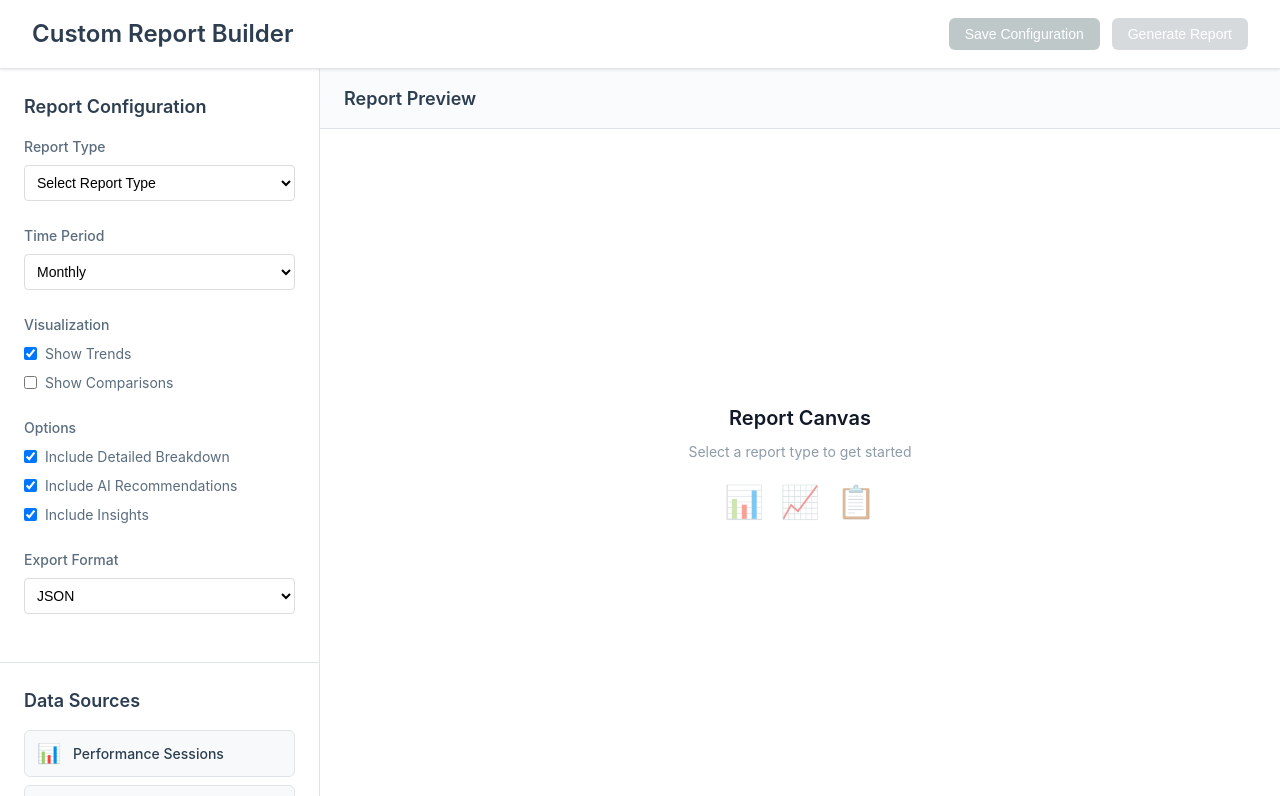
ReportBuilder › displays preview data when available
Note: Select report type to trigger preview
Select "Student Progress" in the dropdown showing "Select Report Type": (160, 183) [24, 165, 295, 201]
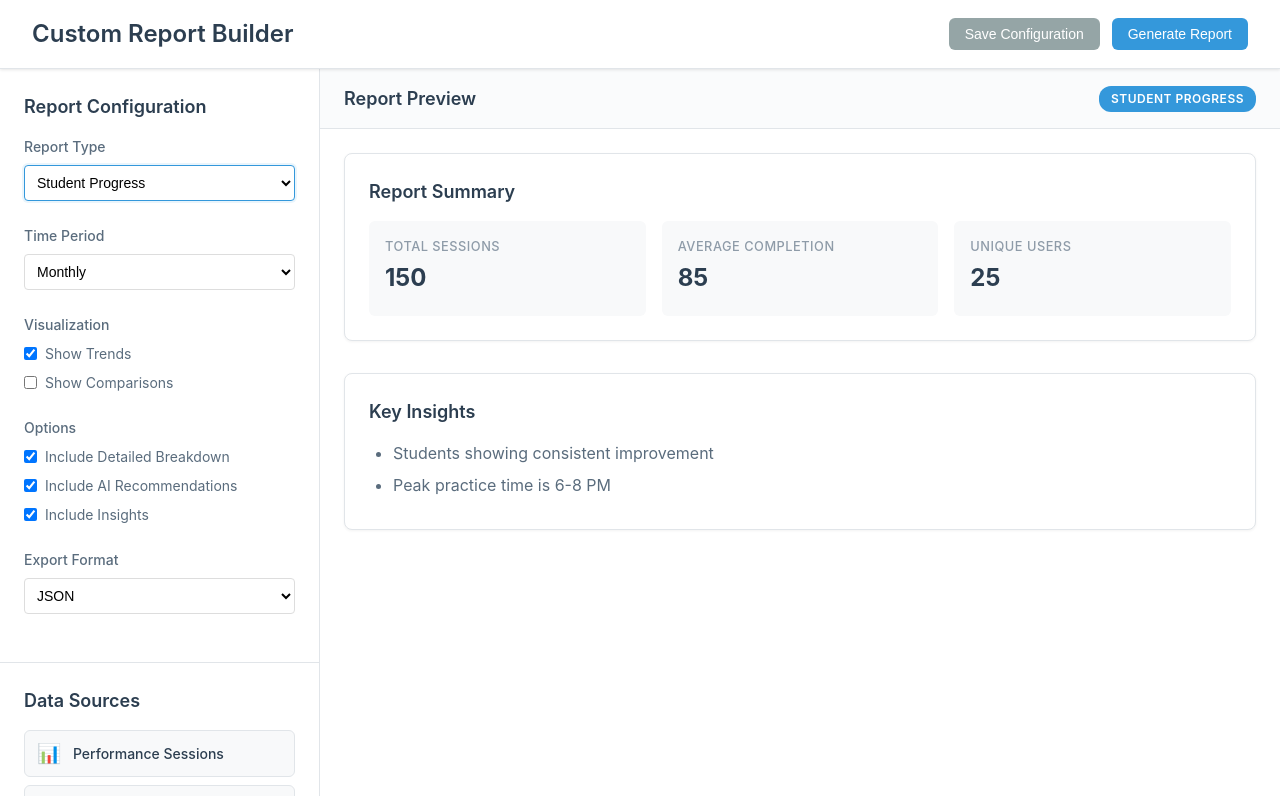
Check: the heading "Report Summary" is shown, box [369, 181, 515, 202]
Check: the text "150" is shown, box [385, 263, 426, 292]
Check: the text "85" is shown, box [678, 263, 708, 292]
